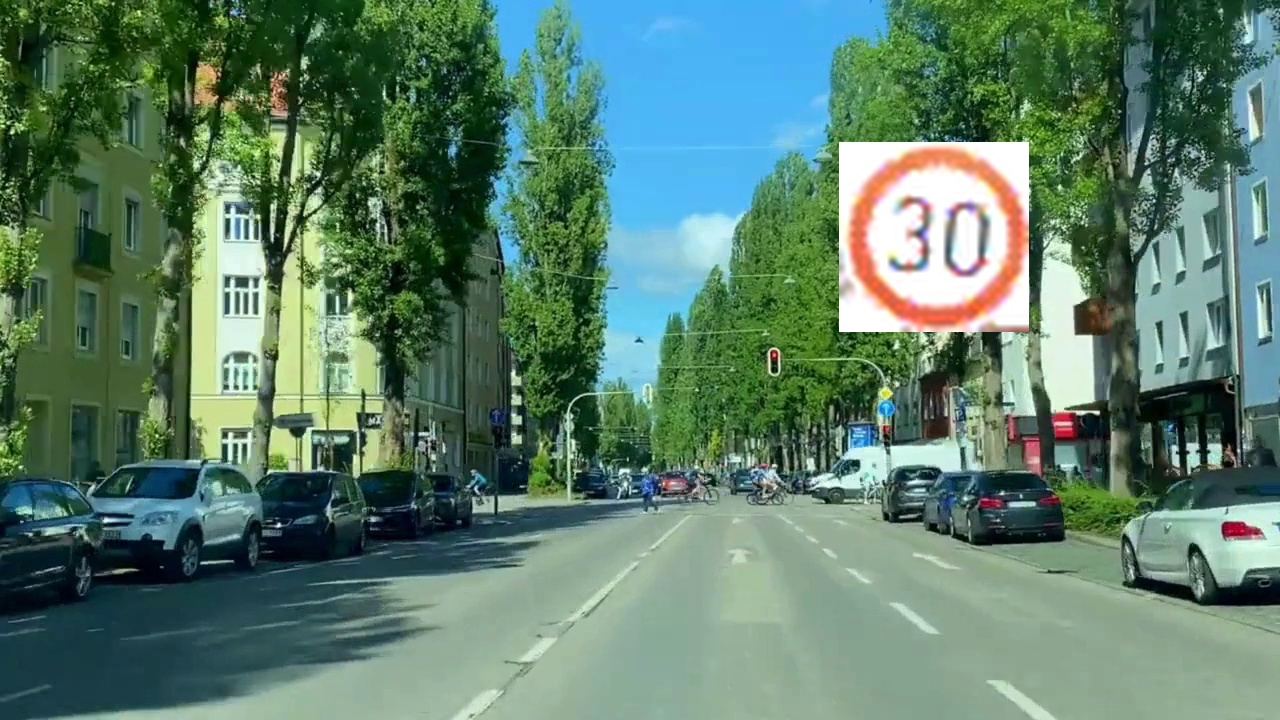Speed 30: (839, 142, 1029, 332)
